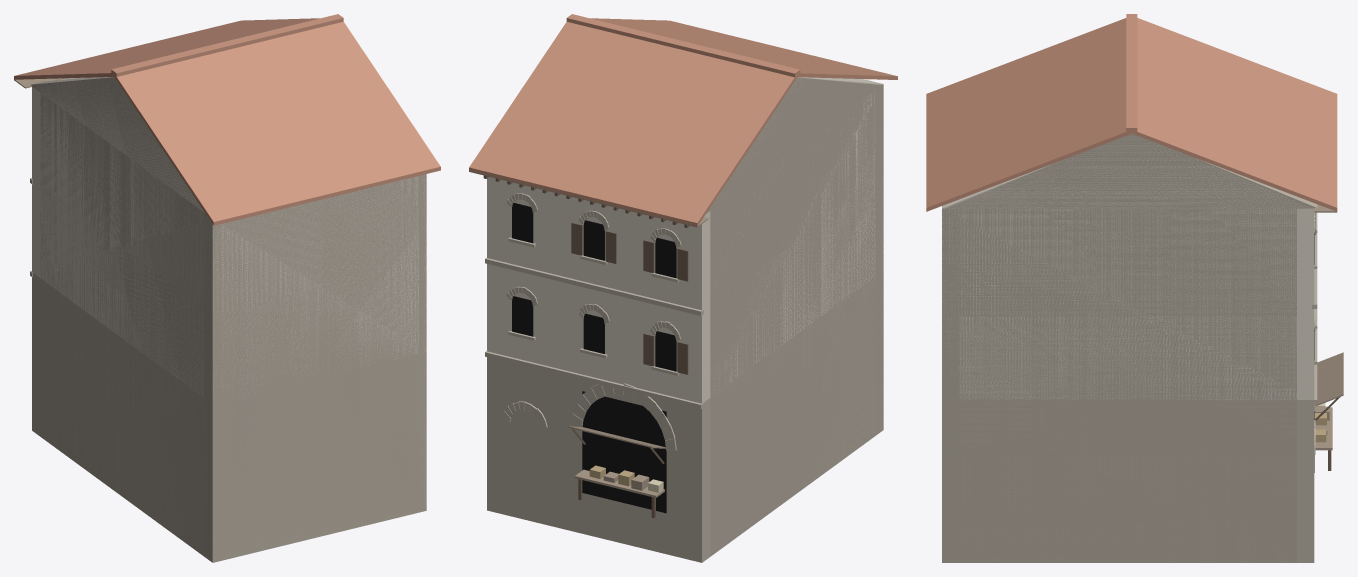
File: casa-82-2-intonaco.glb
3 views of the same model, side by side, from view 1: azimuth 30°, elevation 25°; view 2: azimuth 150°, elevation 25°; view 3: azimuth 270°, elevation 25° (orthographic). The views are drawn at different scales.
Visible parts, largest first — view 1: vicino, lontano; view 2: vicino, lontano, aperta; view 3: vicino, lontano, aperta.
Boxes of the visible parts, x1=… form: vicino: x1=14, y1=14, x2=440, y2=562; lontano: x1=14, y1=74, x2=440, y2=561; vicino: x1=469, y1=14, x2=897, y2=562; lontano: x1=469, y1=74, x2=896, y2=561; aperta: x1=568, y1=426, x2=665, y2=518; vicino: x1=926, y1=14, x2=1337, y2=562; lontano: x1=926, y1=131, x2=1337, y2=562; aperta: x1=1314, y1=352, x2=1343, y2=470.
Size of the model in its own units: 8.7 by 15.58 by 13.45.
